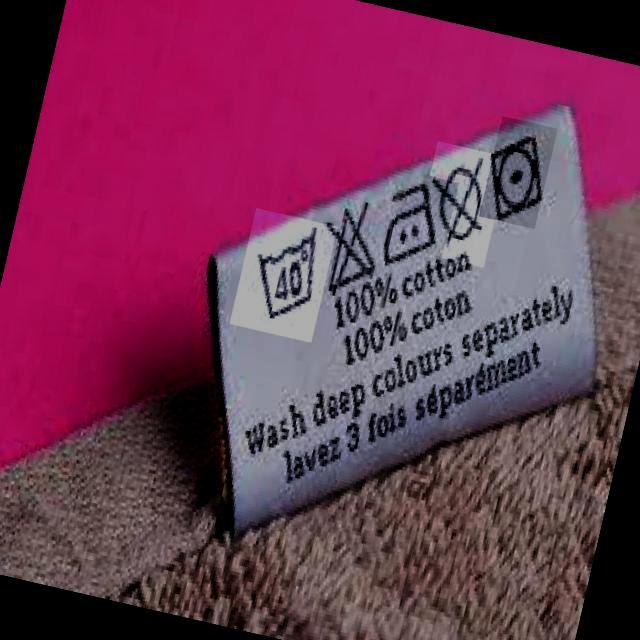40C: (257, 227, 322, 321)
DN_bleach: (323, 198, 377, 288)
DN_dry_clean: (437, 160, 486, 248)
iron_medium: (383, 176, 438, 267)
tumble_dry_low: (486, 132, 548, 222)
